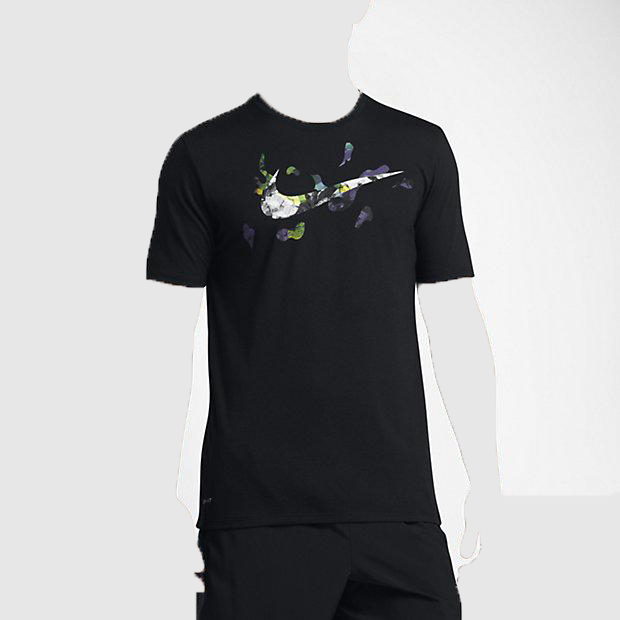teeshirt: (129, 89, 492, 531)
